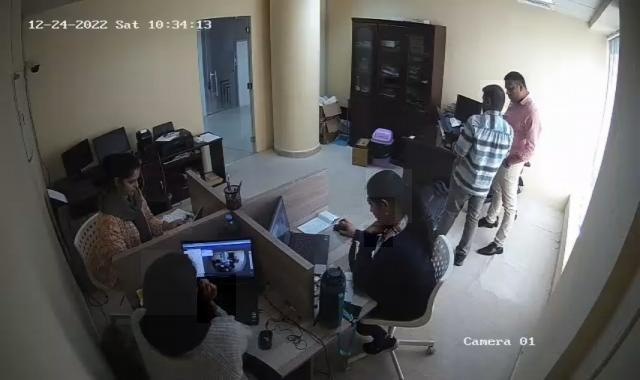no_apron: (198, 274, 237, 324), (334, 216, 368, 243), (364, 223, 393, 248), (164, 216, 193, 235)
no_gloves: (141, 250, 207, 315), (366, 170, 412, 224), (111, 151, 145, 197), (481, 80, 506, 112), (504, 72, 529, 102)
no_hairnet: (364, 198, 396, 226), (122, 167, 148, 201), (503, 80, 527, 106), (478, 91, 494, 117)
